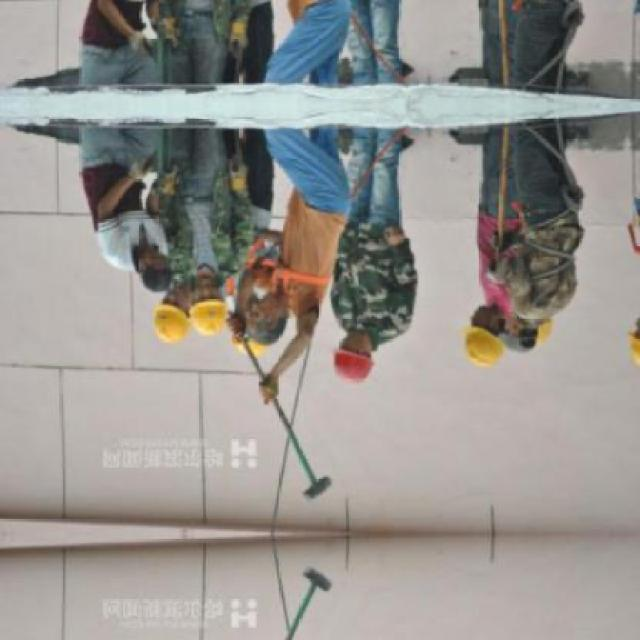con casco: (328, 332, 410, 394), (451, 303, 518, 376), (175, 275, 239, 335)
